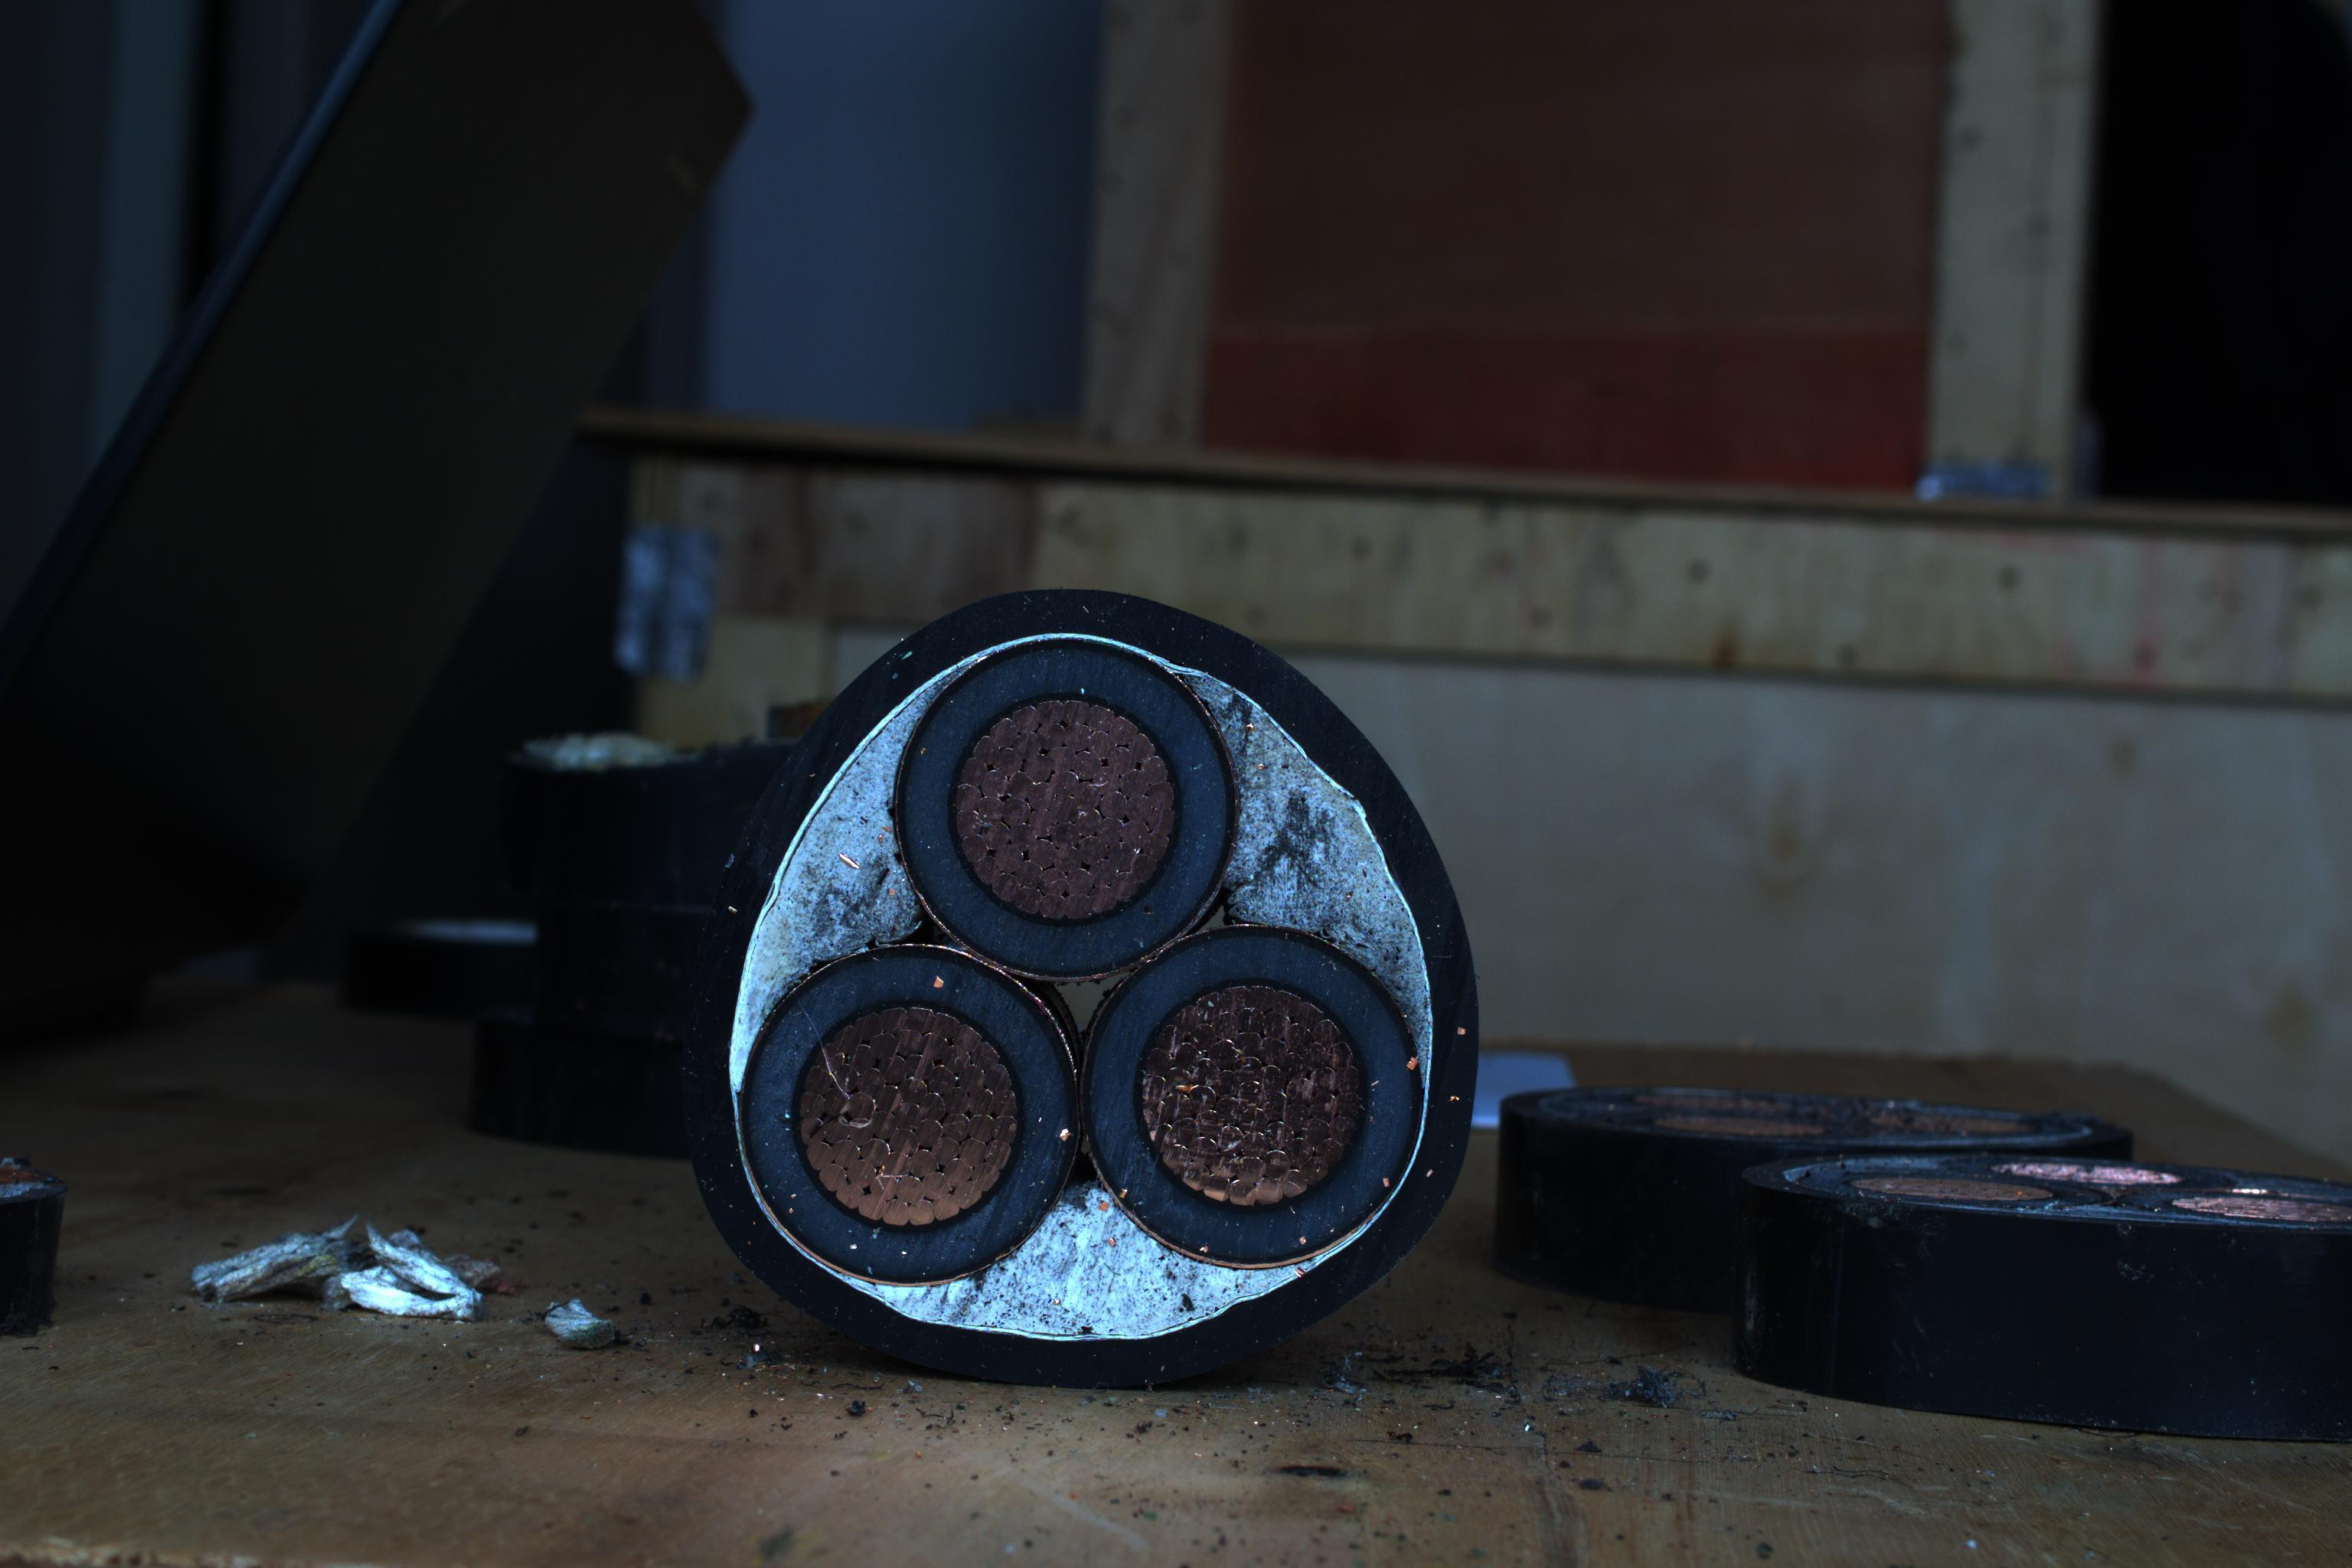ZA_YJV_8.7_10kV_3x400: (710, 619, 1491, 1368)
